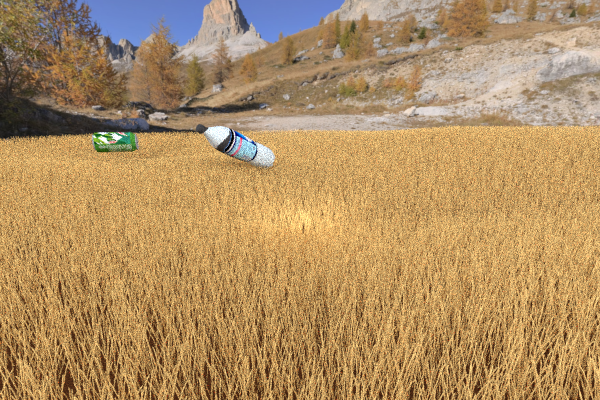bottle: (195, 124, 275, 169)
can: (53, 130, 96, 152), (91, 132, 138, 152)
